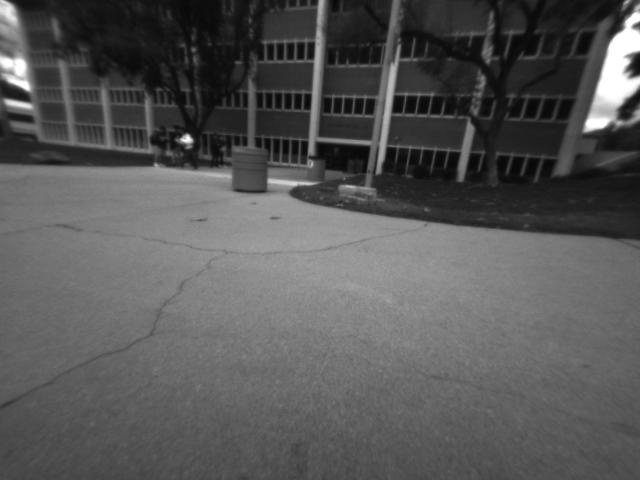trashcan: (226, 136, 275, 198), (304, 151, 328, 189)
